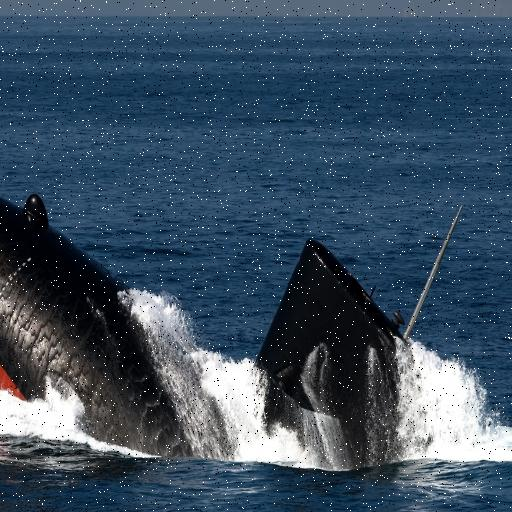submarine: (1, 178, 476, 474)
